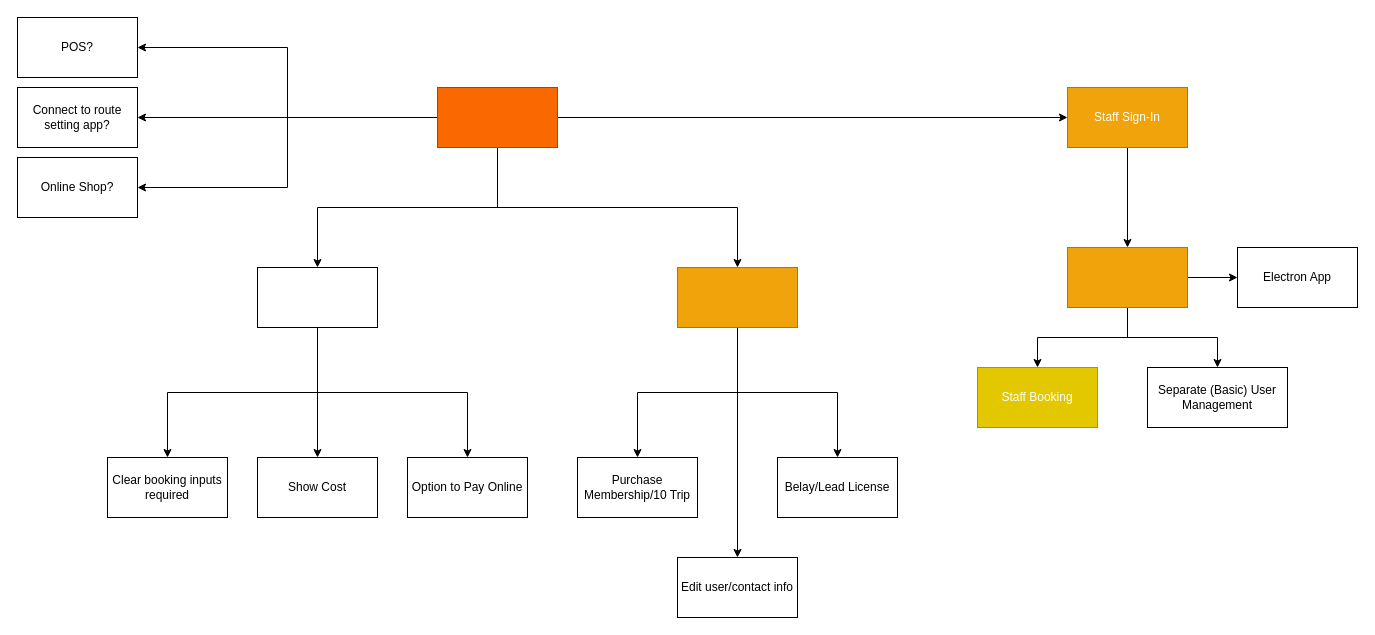
Some shapes in this 1375 by 635 pixel diagram are drawn without their labels. Here are the shapes that lost their labels. From the top down, the centre of each, then its label:
the point at 497,117: Website
the point at 317,297: Online Booking
the point at 737,297: User Management
the point at 1127,277: Staff Website/Dashboard
